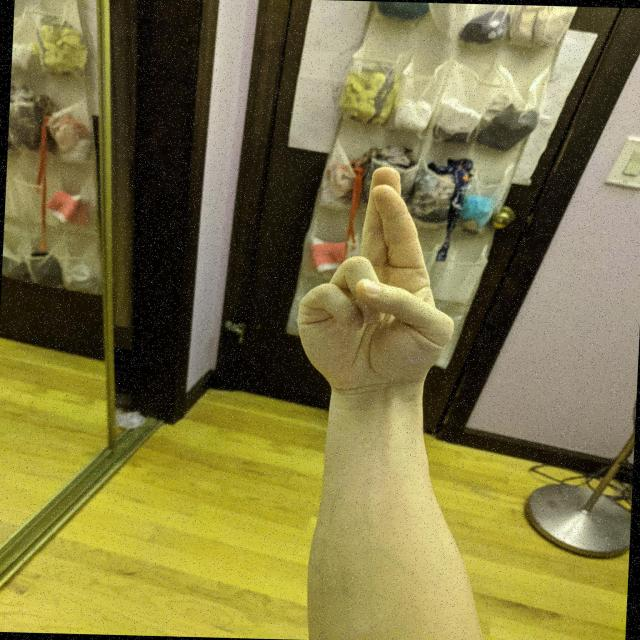R: (286, 159, 468, 401)
